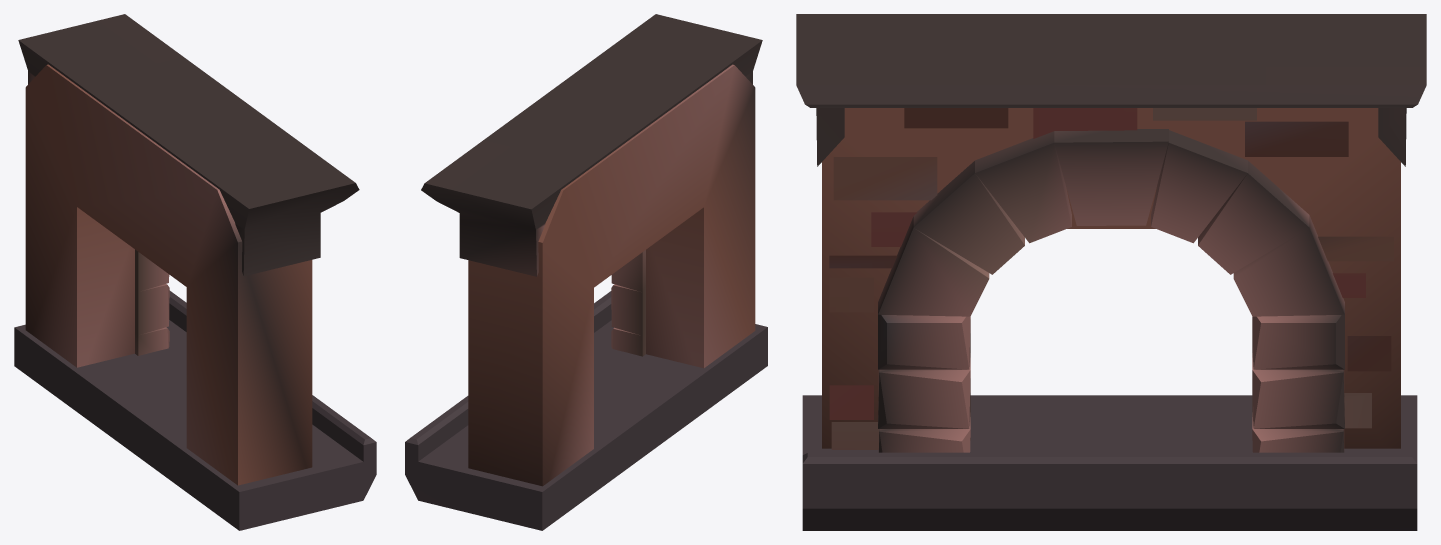
File: FirePlace.fbx
3 views of the same model, side by side, from view 1: azimuth 30°, elevation 25°; view 2: azimuth 150°, elevation 25°; view 3: azimuth 270°, elevation 25° (orthographic). The views are drawn at different scales.
Parts seen in each view (by area): view 1: Cube.001; view 2: Cube.001; view 3: Cube.001.
Part boxes in pixels (bbox=[...]): Cube.001: bbox=[14, 14, 376, 530]; Cube.001: bbox=[405, 14, 767, 530]; Cube.001: bbox=[796, 14, 1426, 530].
Bounding box in the file's own units: 739 × 1656 × 2155.
